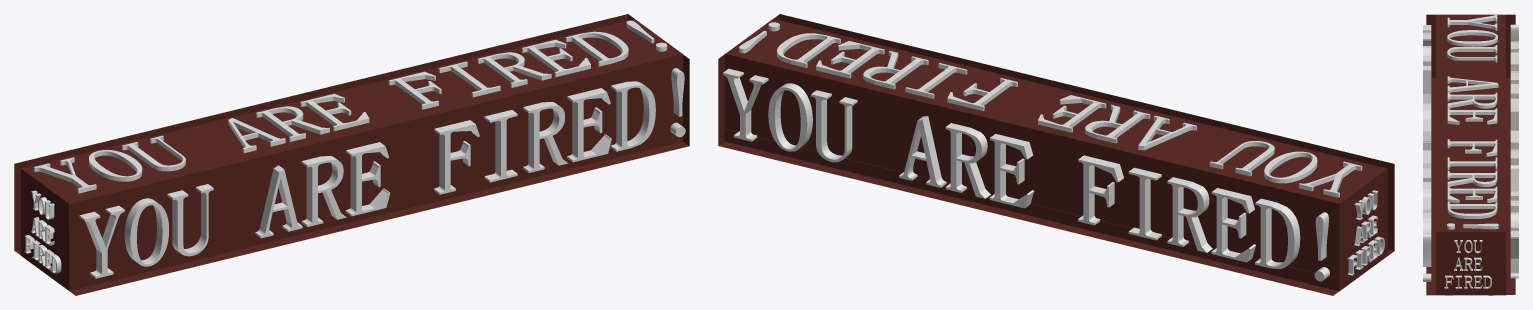
File: YOU_ARE_FIRED.fbx
The picture shows the model from 3 angles, left to right: view 1: azimuth 30°, elevation 25°; view 2: azimuth 150°, elevation 25°; view 3: azimuth 270°, elevation 25°; orthographic projection. The views are drawn at different scales.
Parts seen in each view (by area): view 1: Text.003, Text; view 2: Text.003, Text; view 3: Text.003, Text.001.
Boxes of the visible parts, box(x1,y1,x2,y2) form: Text.003: box(14, 14, 689, 295); Text: box(24, 190, 61, 273); Text.003: box(718, 14, 1394, 295); Text: box(1347, 190, 1384, 275); Text.003: box(1423, 14, 1518, 295); Text.001: box(1444, 240, 1491, 288).
Bounding box in the file's own units: 689 × 101 × 127.
